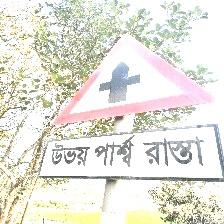Crossroad: (43, 32, 223, 179)
